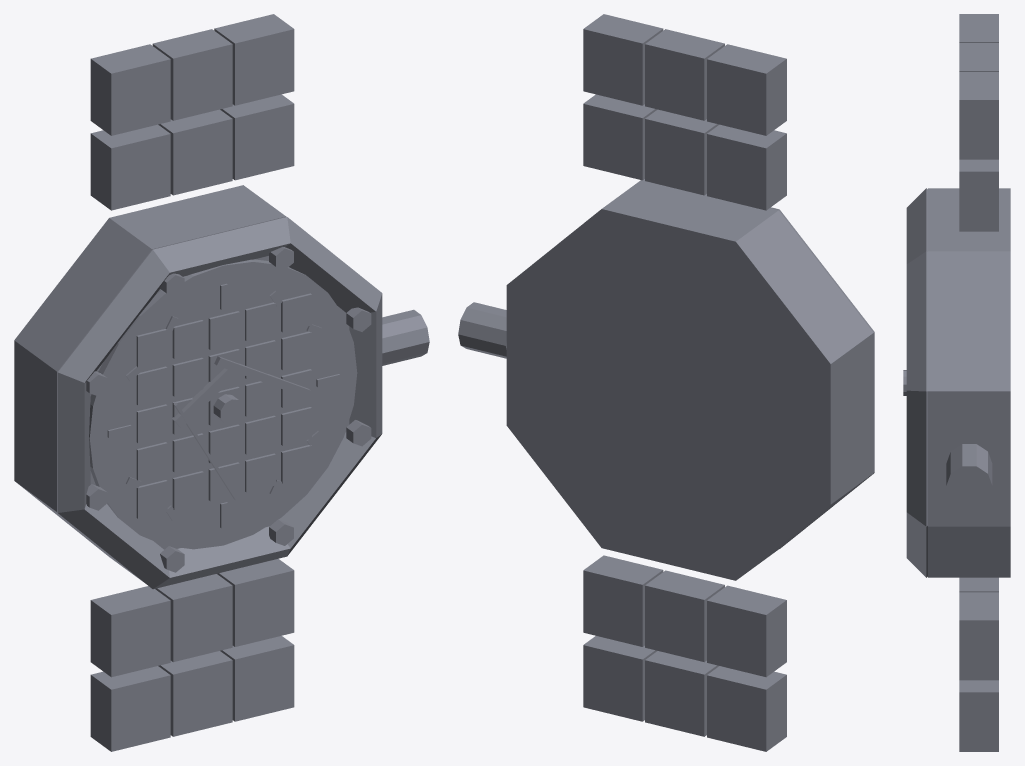
The model's file is rlj_roblereal.fbx.
3 views of the same model, side by side, from view 1: azimuth 30°, elevation 25°; view 2: azimuth 150°, elevation 25°; view 3: azimuth 270°, elevation 25° (orthographic). The views are drawn at different scales.
Parts seen in each view (by area): view 1: Caja__metal_acero, Esfera__esmalte_azul, Caja__metal_plata, Manecillas__metal_plata, Esfera__metal_plata; view 2: Caja__metal_acero, Caja__metal_plata; view 3: Caja__metal_acero, Caja__metal_plata.
Part boxes in pixels (bbox=[...]): Caja__metal_acero: bbox=[14, 14, 429, 751]; Esfera__esmalte_azul: bbox=[89, 259, 357, 549]; Caja__metal_plata: bbox=[57, 217, 382, 589]; Manecillas__metal_plata: bbox=[172, 356, 310, 428]; Esfera__metal_plata: bbox=[107, 283, 340, 528]; Caja__metal_acero: bbox=[458, 14, 873, 751]; Caja__metal_plata: bbox=[770, 207, 874, 548]; Caja__metal_acero: bbox=[928, 14, 1010, 751]; Caja__metal_plata: bbox=[906, 188, 927, 577].
Bounding box in the file's own units: 129 × 218 × 32.5.
